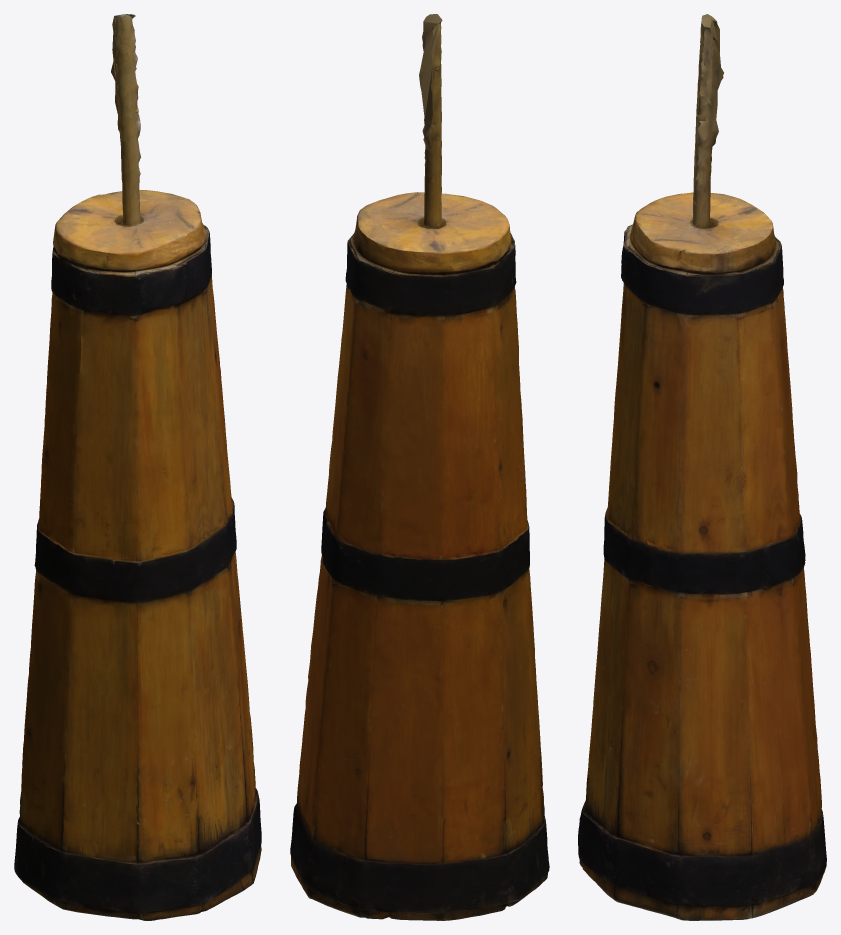
File: kubi.glb
3 views of the same model, side by side, from view 1: azimuth 30°, elevation 25°; view 2: azimuth 150°, elevation 25°; view 3: azimuth 270°, elevation 25° (orthographic).
Visible parts, largest first — view 1: Polygon Reduction; view 2: Polygon Reduction; view 3: Polygon Reduction.
Part boxes in pixels (x1,y1,x2,y2): Polygon Reduction: (14,14,261,920); Polygon Reduction: (290,14,549,920); Polygon Reduction: (578,14,826,920).
Size of the model in its own units: 68.82 by 257 by 68.49.
Materials: 1 (1 with a texture image).
